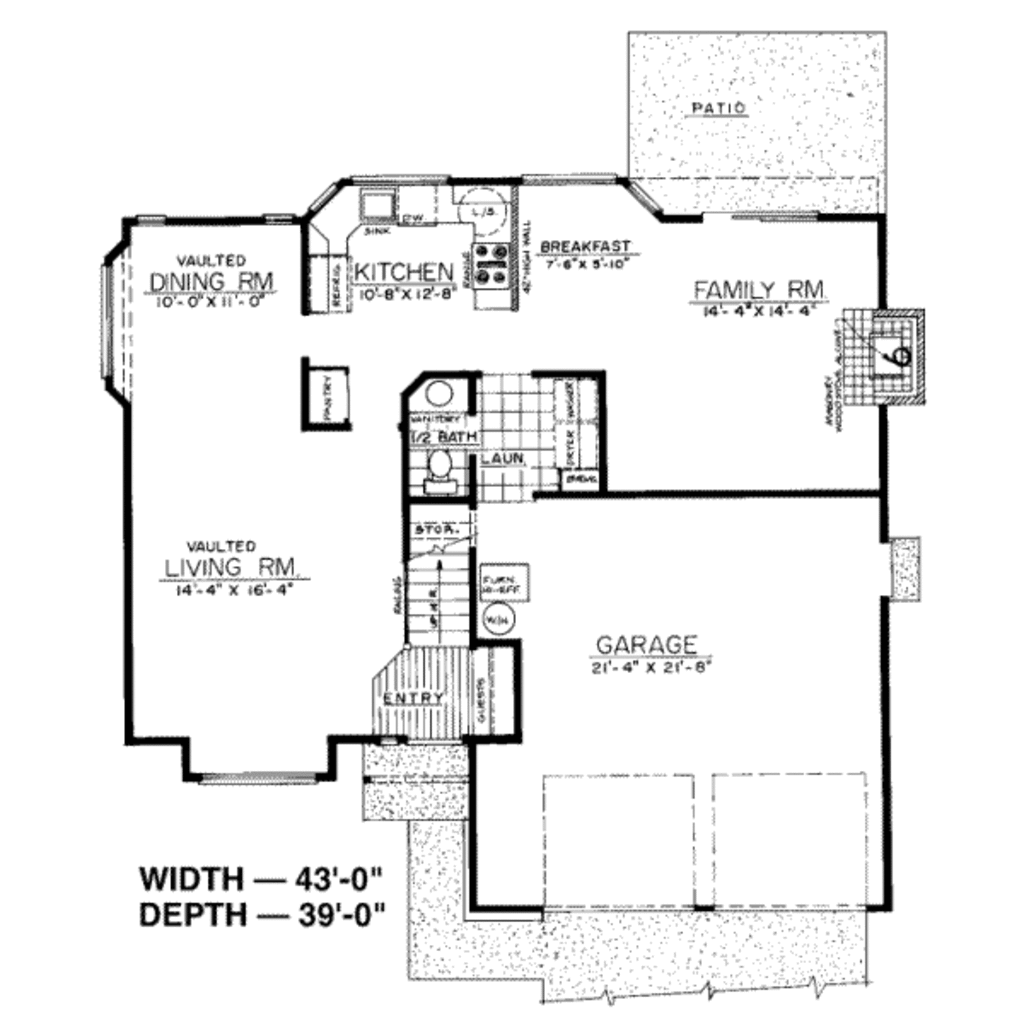large_sink: (419, 439, 465, 503)
small_sink: (416, 379, 476, 420)
stairs: (394, 506, 475, 643)
window: (189, 762, 325, 790), (503, 171, 621, 187), (100, 258, 113, 398), (133, 208, 170, 235), (264, 212, 300, 233)
